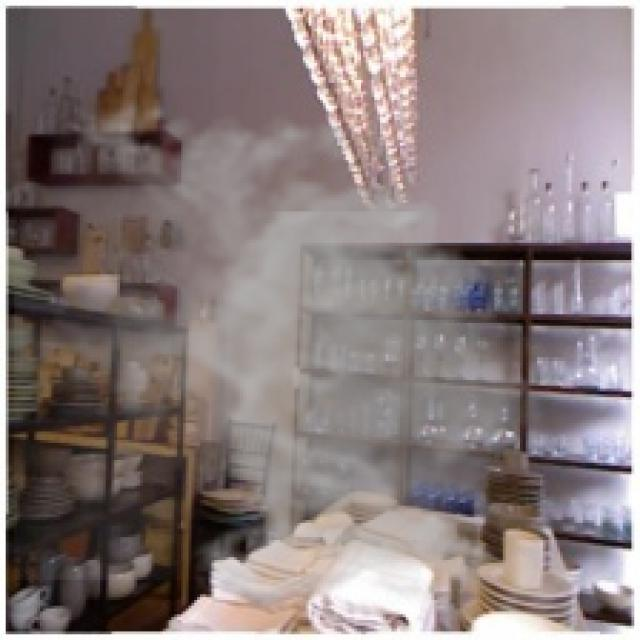smoke: (14, 86, 560, 614)
